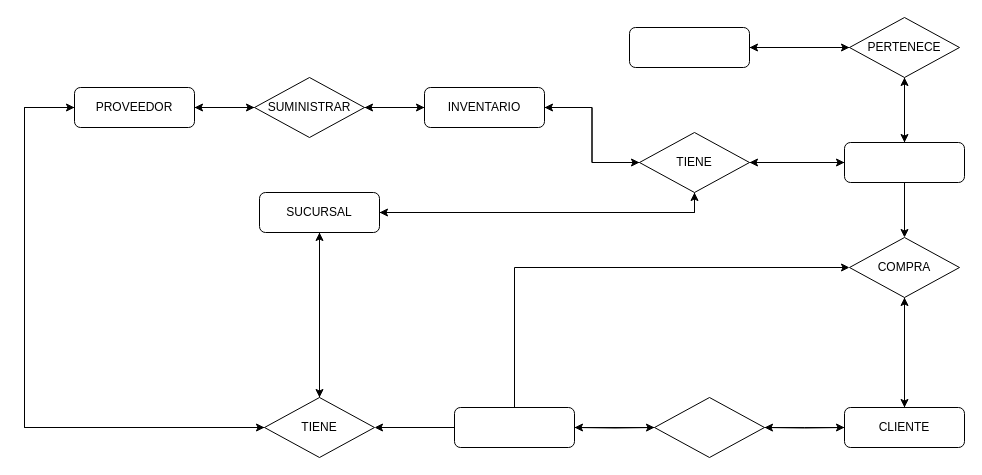
Image size: 982x475. Some labels were removed from this diagram. Here are the shapes that lost their labels. From the top down, the box of each, then its label:
(628, 26, 750, 68): CATEGORÍA
(844, 142, 964, 182): PRODUCTO
(454, 406, 574, 448): EMPLEADO
(654, 396, 764, 458): ATENDER
